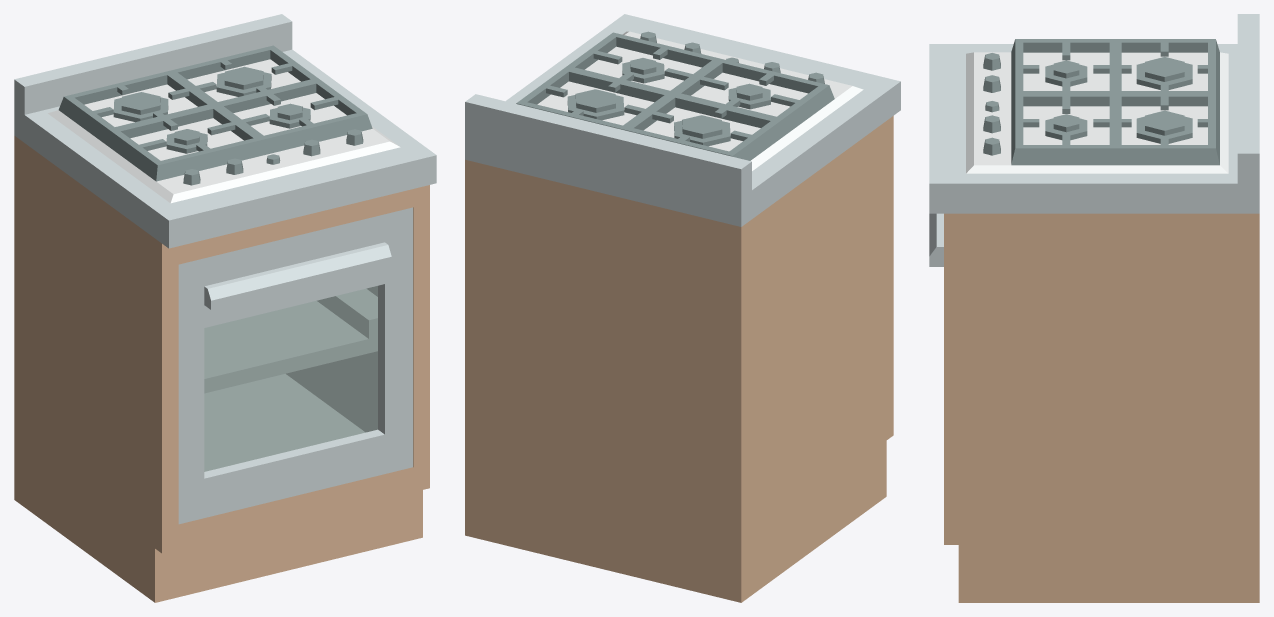
The model's file is kenney_kitchenStove.glb.
3 views of the same model, side by side, from view 1: azimuth 30°, elevation 25°; view 2: azimuth 150°, elevation 25°; view 3: azimuth 270°, elevation 25° (orthographic). The views are drawn at different scales.
Parts seen in each view (by area): view 1: Mesh kitchenStove, door; view 2: Mesh kitchenStove; view 3: Mesh kitchenStove, door.
Part boxes in pixels (x1,y1,x2,y2): Mesh kitchenStove: [14, 14, 436, 602]; door: [178, 207, 412, 524]; Mesh kitchenStove: [465, 14, 900, 602]; Mesh kitchenStove: [929, 14, 1259, 602]; door: [929, 213, 943, 266].
Size of the model in its own units: 0.6 by 0.9 by 0.6.
